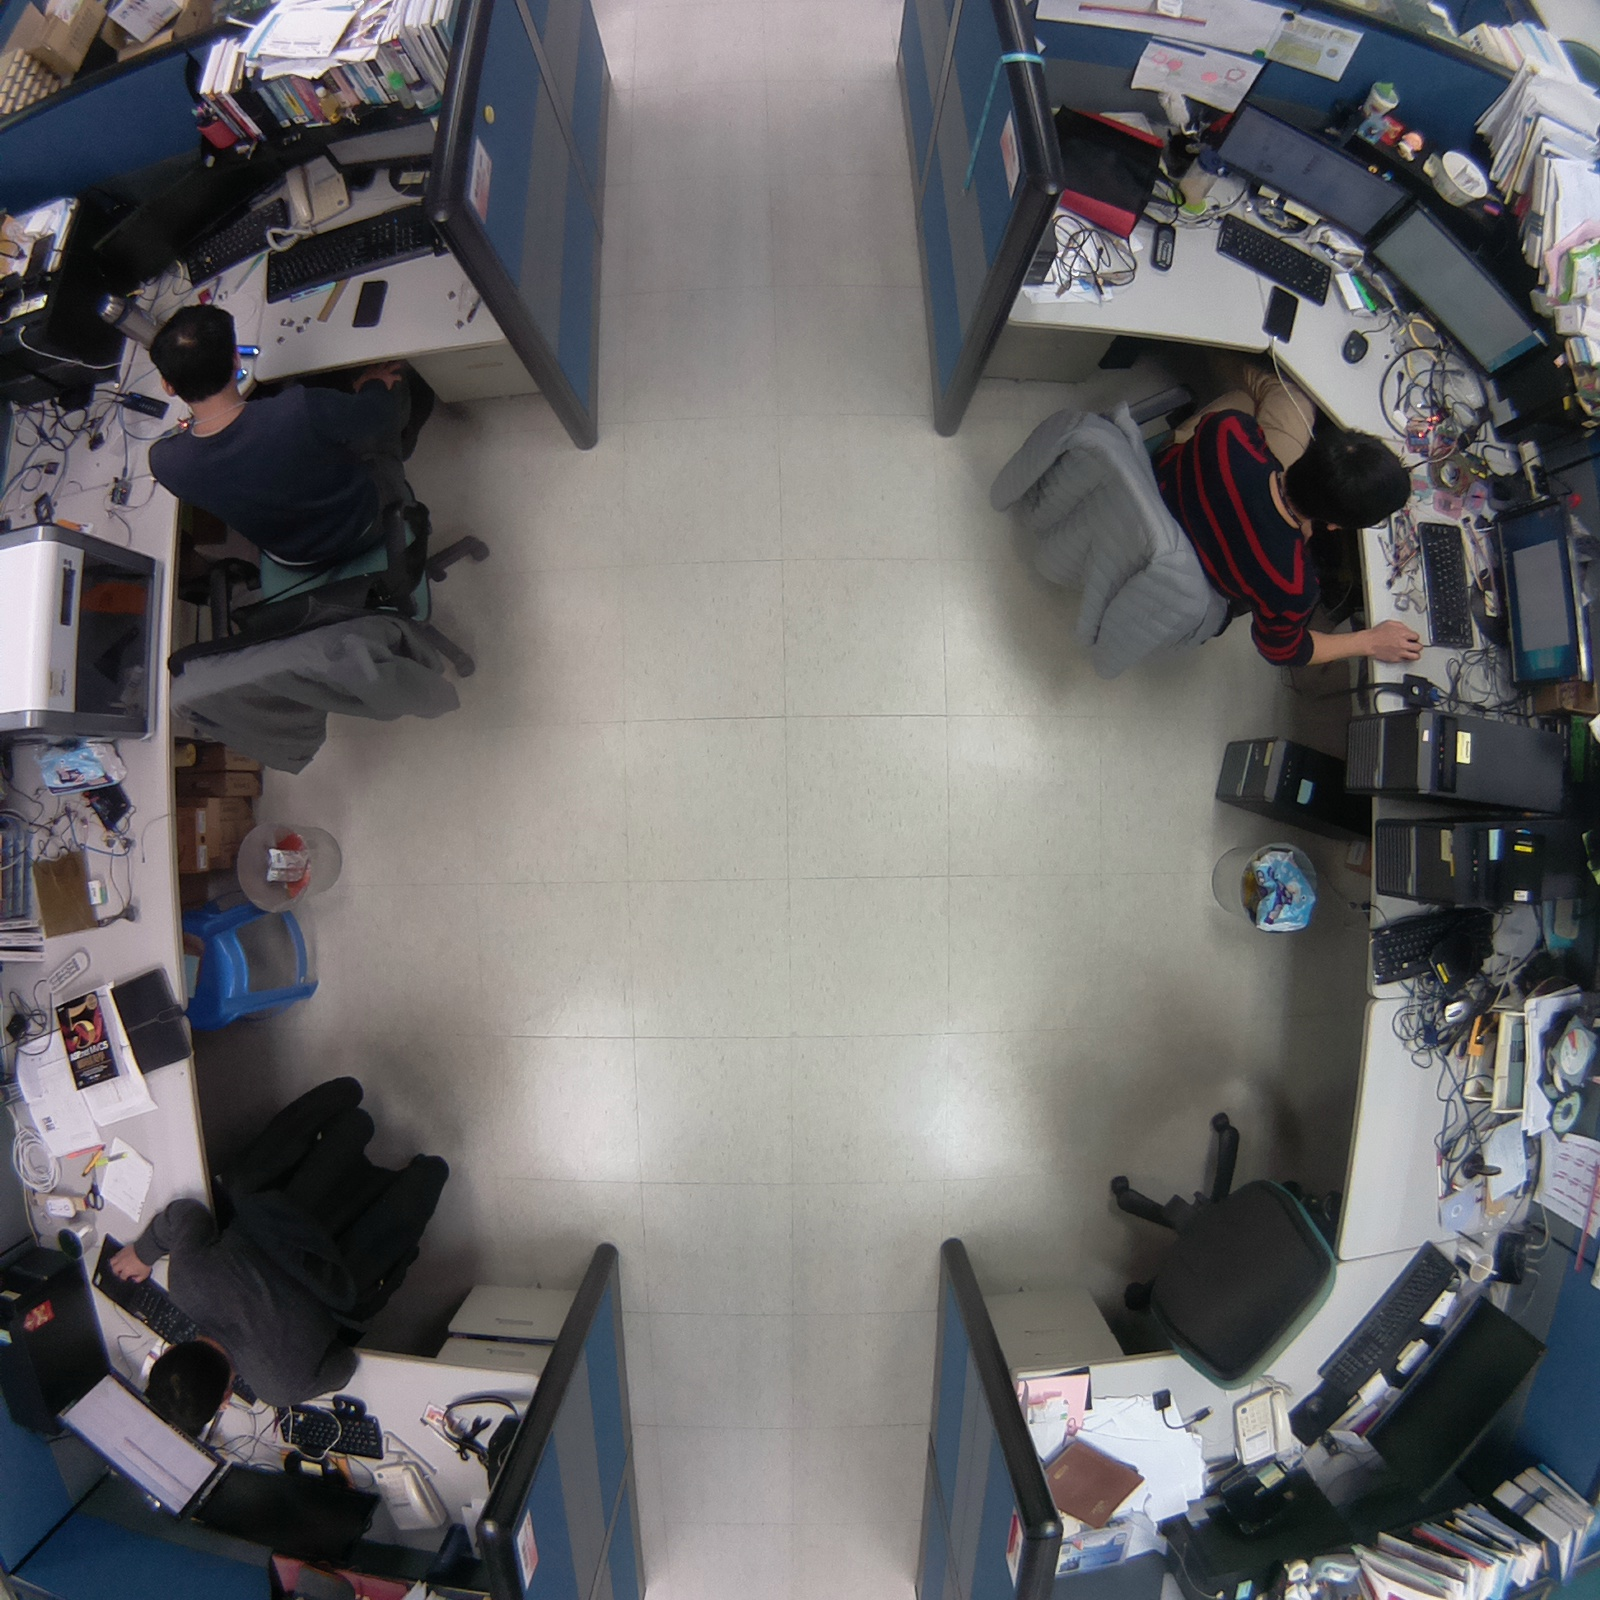chair: (1099, 1093, 1347, 1391)
head: (1283, 421, 1417, 540), (140, 302, 251, 406), (134, 1331, 240, 1434)
sitting: (138, 303, 512, 791), (970, 346, 1409, 701), (103, 1065, 465, 1437)
